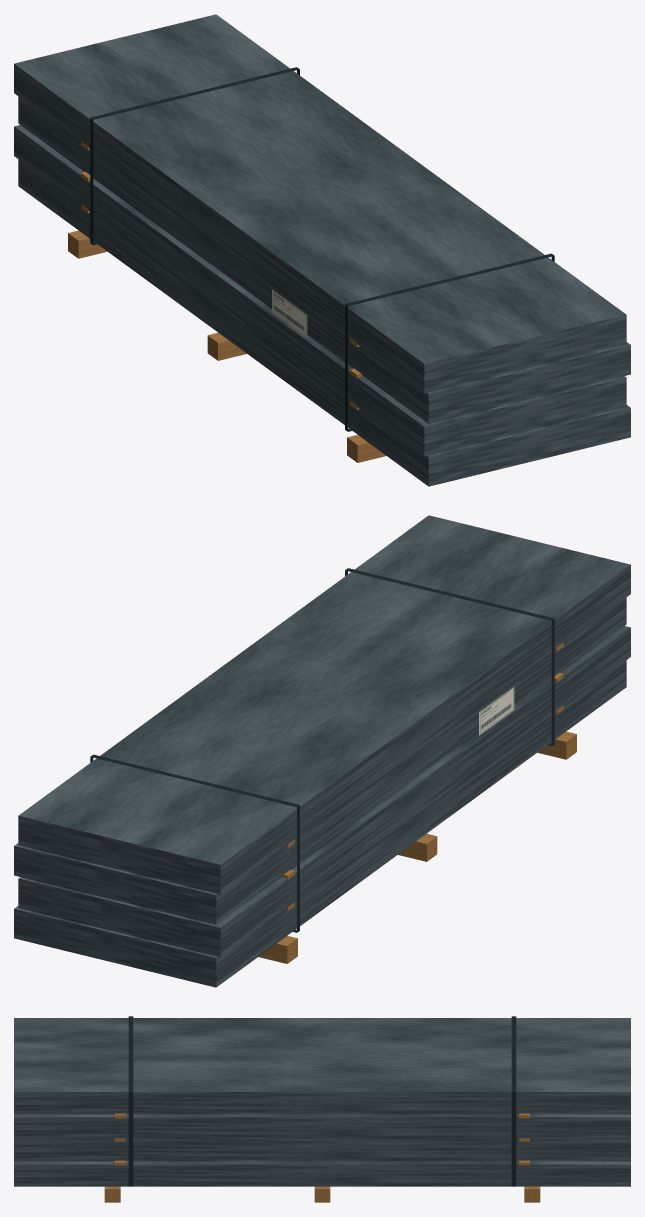
Rendered from steel_slabs.glb.
3 renders of one model, top to bottom at view 1: azimuth 30°, elevation 25°; view 2: azimuth 150°, elevation 25°; view 3: azimuth 270°, elevation 25°, orthographic. The views are drawn at different scales.
Visible parts, largest first — view 1: Mill-scale steel, Steel banding, Pine dunnage, Packing label; view 2: Mill-scale steel, Steel banding, Pine dunnage, Packing label; view 3: Mill-scale steel, Steel banding, Pine dunnage.
Boxes of the visible parts, x1=… form: Mill-scale steel: x1=14, y1=14, x2=630, y2=486; Steel banding: x1=90, y1=67, x2=554, y2=431; Pine dunnage: x1=68, y1=141, x2=386, y2=462; Packing label: x1=272, y1=289, x2=307, y2=337; Mill-scale steel: x1=14, y1=515, x2=630, y2=987; Steel banding: x1=90, y1=568, x2=554, y2=932; Pine dunnage: x1=258, y1=642, x2=576, y2=963; Packing label: x1=479, y1=687, x2=514, y2=735; Mill-scale steel: x1=14, y1=1018, x2=630, y2=1186; Steel banding: x1=128, y1=1016, x2=516, y2=1186; Pine dunnage: x1=104, y1=1113, x2=540, y2=1202.
Bounding box in the file's own units: 1.79 × 1.12 × 5.8.
4 materials, 3 textured.
